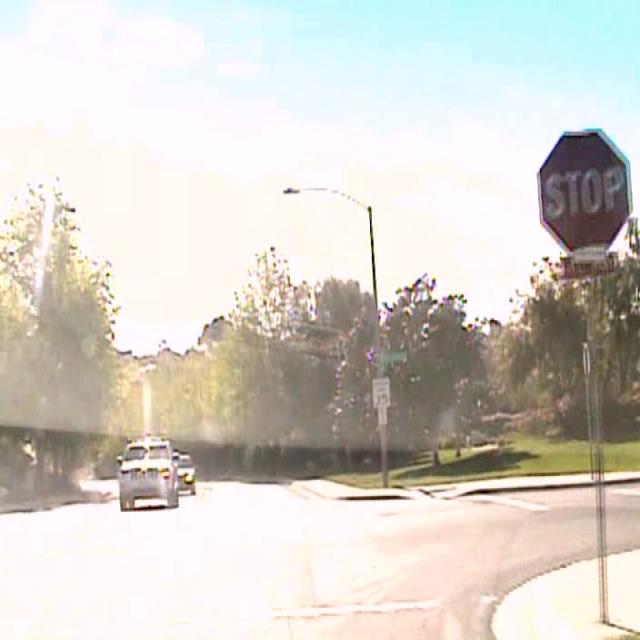stop: (537, 128, 632, 255)
